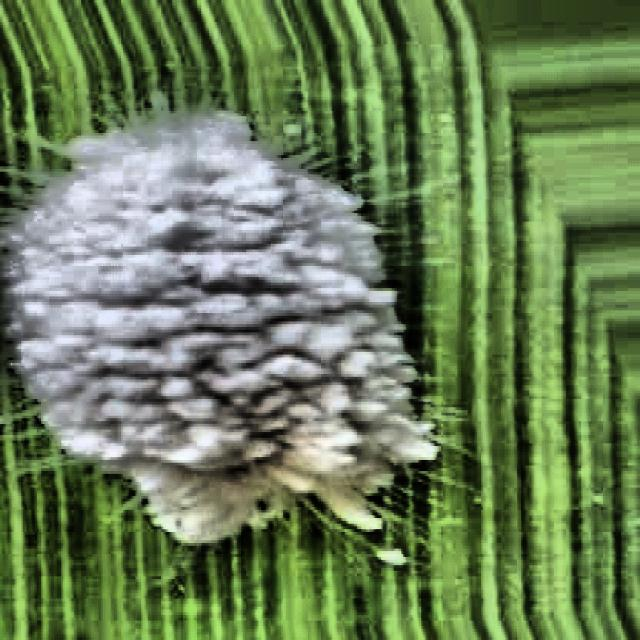Mealy-bug: (0, 48, 458, 636)
